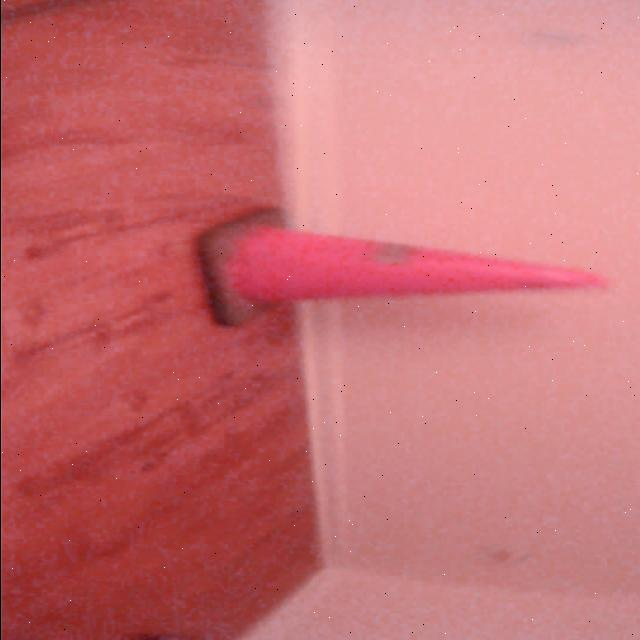traffic cone: (195, 205, 613, 331)
